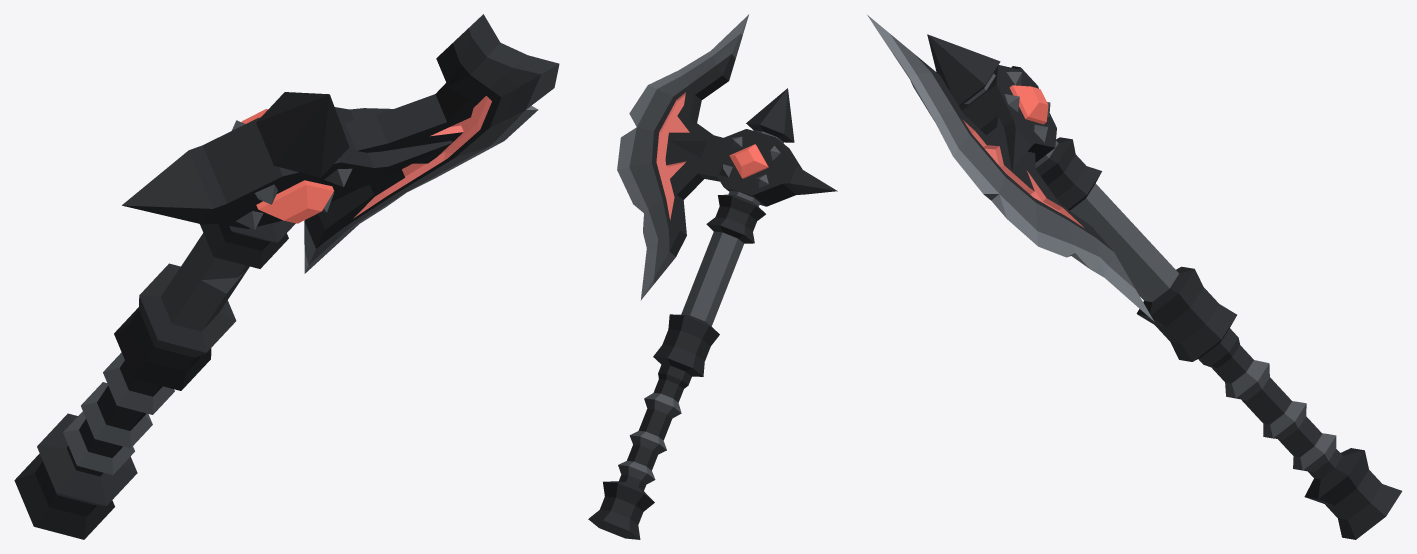
Rendered from dr-axe-large-07.glb.
The picture shows the model from 3 angles, left to right: view 1: azimuth 30°, elevation 25°; view 2: azimuth 150°, elevation 25°; view 3: azimuth 270°, elevation 25°; orthographic projection. The views are drawn at different scales.
Visible parts, largest first — view 1: dr-axe-large-07; view 2: dr-axe-large-07; view 3: dr-axe-large-07.
Part boxes in pixels (box(x1,y1,x2,y2)): dr-axe-large-07: box(14, 14, 559, 539); dr-axe-large-07: box(588, 14, 837, 539); dr-axe-large-07: box(867, 15, 1402, 539).
Bounding box in the file's own units: 0.4001 × 0.6823 × 0.5984.
1 material, 1 textured.
